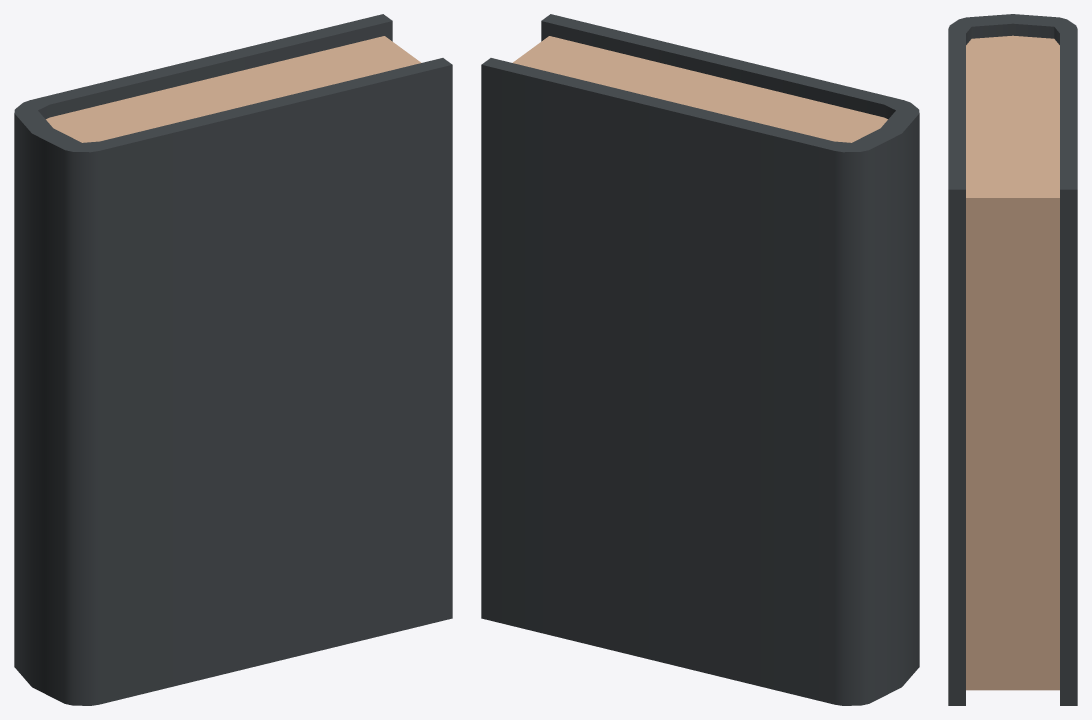
The model's file is Book_01.fbx.
The picture shows the model from 3 angles, left to right: view 1: azimuth 30°, elevation 25°; view 2: azimuth 150°, elevation 25°; view 3: azimuth 270°, elevation 25°; orthographic projection. The views are drawn at different scales.
Parts seen in each view (by area): view 1: Book_01; view 2: Book_01; view 3: Book_01.
Boxes of the visible parts, x1=… form: Book_01: x1=14, y1=14, x2=452, y2=705; Book_01: x1=481, y1=14, x2=919, y2=705; Book_01: x1=948, y1=14, x2=1077, y2=705.
Size of the model in its own units: 23.58 by 32.33 by 7.33.
